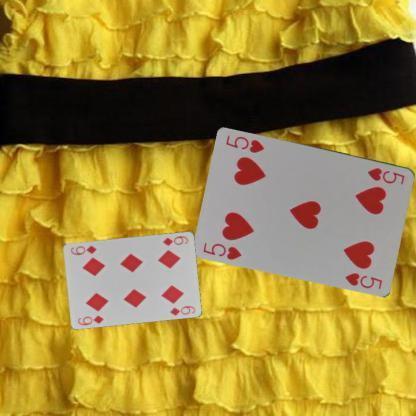5h: (200, 240, 244, 262), (365, 164, 406, 186)
6d: (160, 233, 190, 247), (76, 312, 106, 326)
